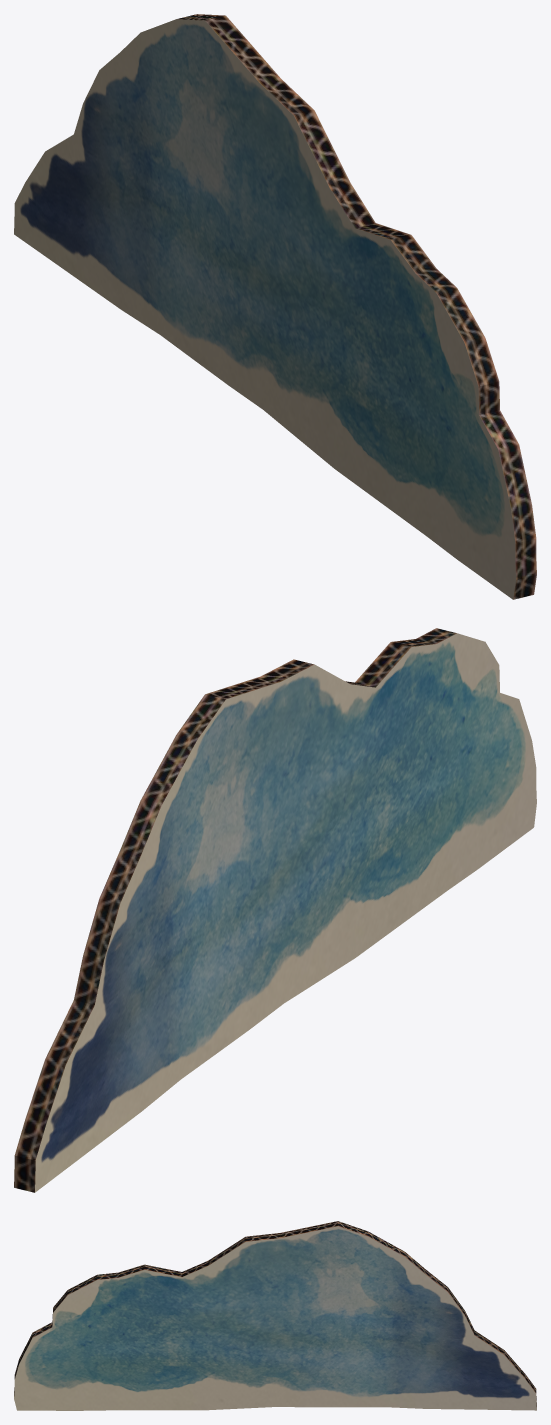
Rendered from Cloud-01.fbx.
3 renders of one model, top to bottom at view 1: azimuth 30°, elevation 25°; view 2: azimuth 150°, elevation 25°; view 3: azimuth 270°, elevation 25°, orthographic. The views are drawn at different scales.
Parts seen in each view (by area): view 1: Cloud-01; view 2: Cloud-01; view 3: Cloud-01.
Boxes of the visible parts, left/top/right/bottom form: Cloud-01: left=14, top=14, right=536, bottom=599; Cloud-01: left=14, top=628, right=536, bottom=1192; Cloud-01: left=14, top=1221, right=536, bottom=1410.
Bounding box in the file's own units: 12.83 × 207 × 533.
